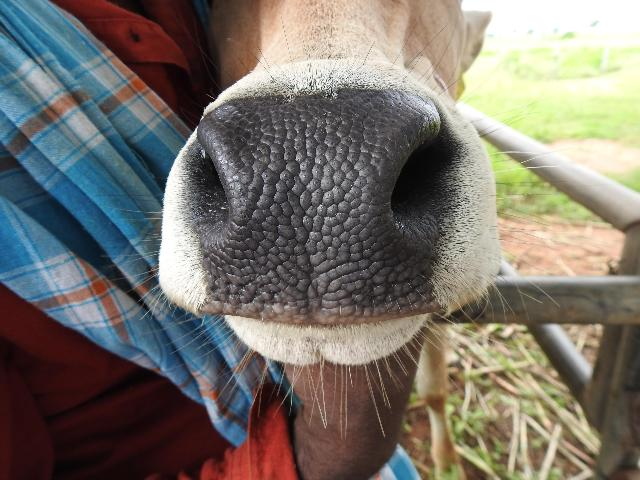Muzzle: (214, 111, 400, 307)
